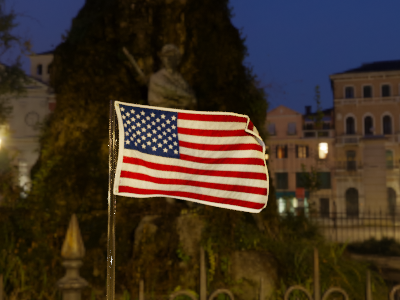America flag: (113, 100, 271, 214)
